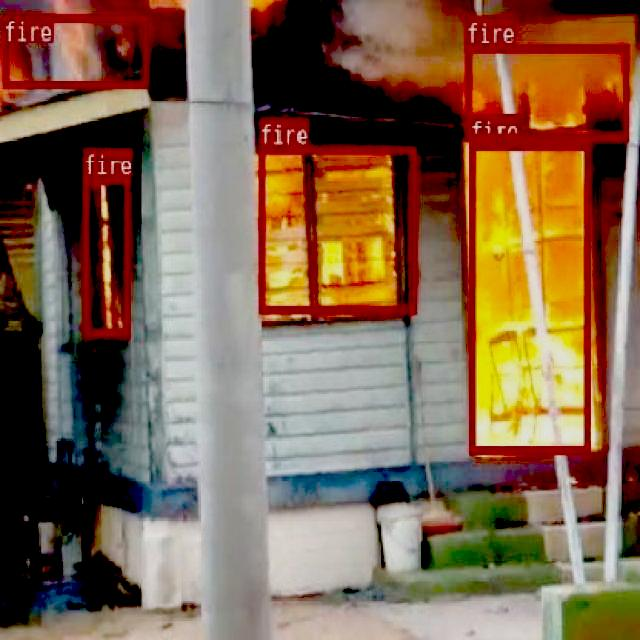fire: (468, 140, 590, 452), (258, 144, 416, 312), (464, 43, 628, 140), (2, 14, 148, 88), (82, 174, 130, 334)
